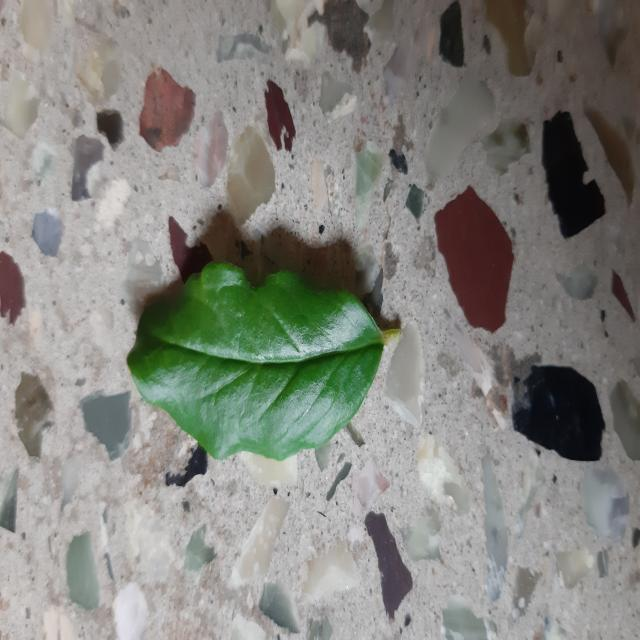pomgranate: (128, 262, 384, 460)
